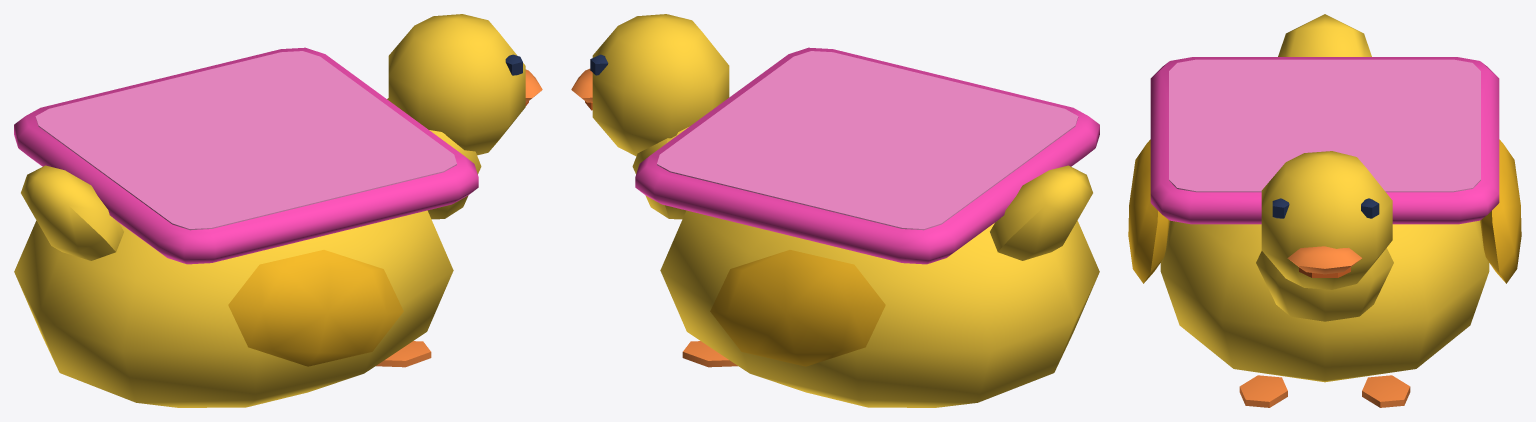
File: toy_flat_duck_lod1.glb
3 renders of one model, left to right at view 1: azimuth 30°, elevation 25°; view 2: azimuth 150°, elevation 25°; view 3: azimuth 270°, elevation 25°, orthographic. The views are drawn at different scales.
Parts seen in each view (by area): view 1: toy_flat_duck_LOD1; view 2: toy_flat_duck_LOD1; view 3: toy_flat_duck_LOD1.
Part boxes in pixels (x1,y1,x2,y2): toy_flat_duck_LOD1: (14,14,542,407); toy_flat_duck_LOD1: (571,14,1099,407); toy_flat_duck_LOD1: (1128,14,1521,407).
Bounding box in the file's own units: 14.17 × 7.9 × 9.96.
1 material, 1 textured.
